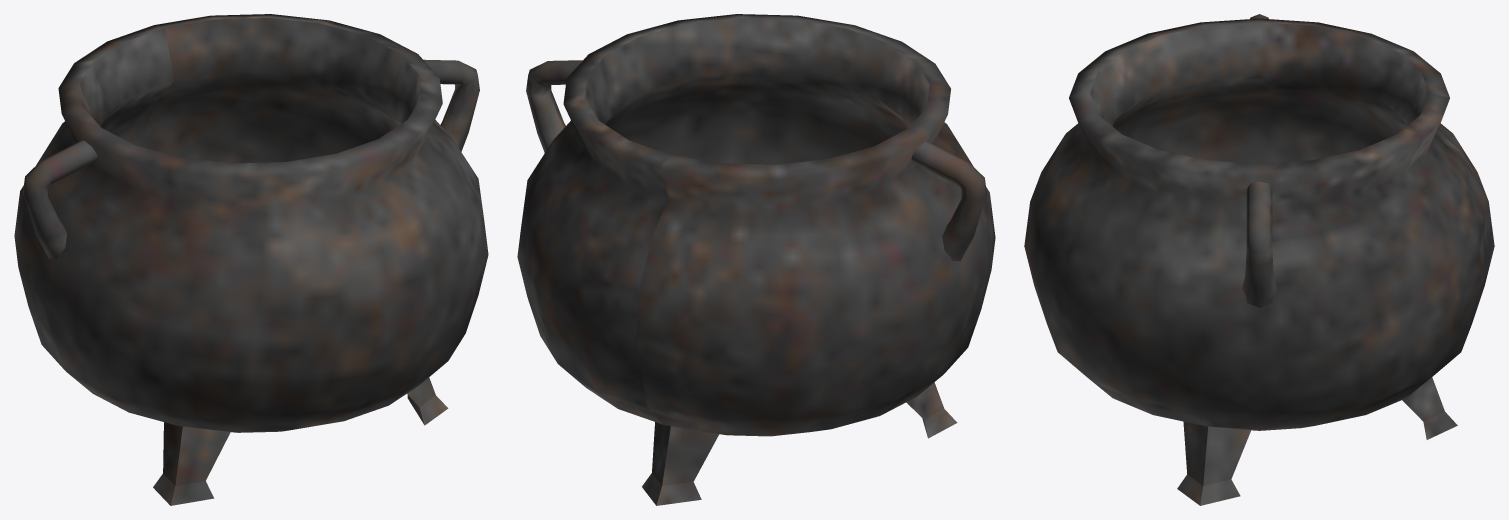
Rendered from Pot 1.fbx.
3 views of the same model, side by side, from view 1: azimuth 30°, elevation 25°; view 2: azimuth 150°, elevation 25°; view 3: azimuth 270°, elevation 25° (orthographic). The views are drawn at different scales.
Parts seen in each view (by area): view 1: Pot; view 2: Pot; view 3: Pot.
Boxes of the visible parts, x1=… form: Pot: x1=14, y1=14, x2=488, y2=505; Pot: x1=517, y1=14, x2=995, y2=505; Pot: x1=1024, y1=14, x2=1494, y2=505.
Size of the model in its own units: 0.4512 by 0.3216 by 0.4099.
